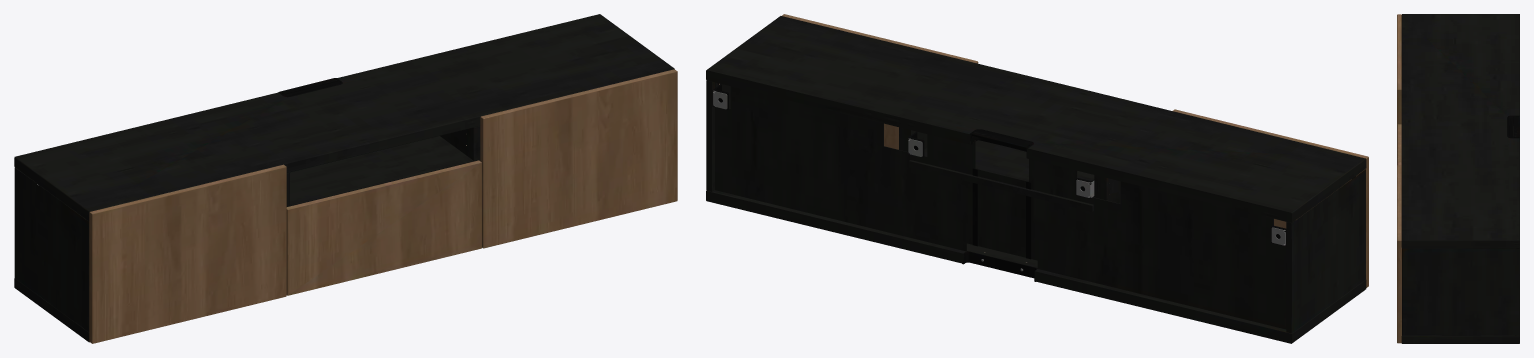
The model's file is ikea_tv_bench_wall.glb.
The picture shows the model from 3 angles, left to right: view 1: azimuth 30°, elevation 25°; view 2: azimuth 150°, elevation 25°; view 3: azimuth 270°, elevation 25°; orthographic projection. The views are drawn at different scales.
Parts seen in each view (by area): view 1: ikea_tv_bench_wall; view 2: ikea_tv_bench_wall; view 3: ikea_tv_bench_wall.
Part boxes in pixels (<box>): ikea_tv_bench_wall: <box>14,14,677,343</box>; ikea_tv_bench_wall: <box>706,14,1368,343</box>; ikea_tv_bench_wall: <box>1397,14,1519,343</box>.
Bounding box in the file's own units: 1.79 × 0.3879 × 0.4117.
Materials: 1 (1 with a texture image).
